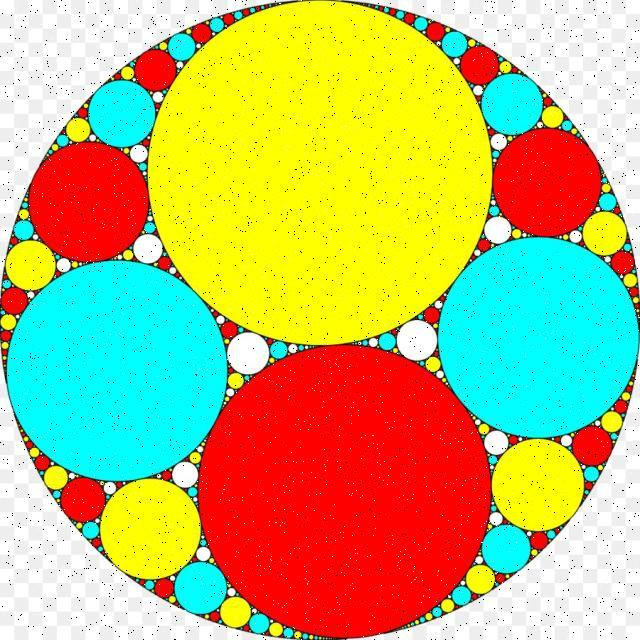Circle: (1, 0, 639, 640), (148, 2, 492, 346), (198, 343, 492, 638), (7, 260, 226, 480), (436, 237, 640, 438), (28, 140, 148, 262), (492, 128, 603, 235), (101, 478, 201, 580), (494, 438, 584, 532), (88, 80, 156, 147), (482, 67, 544, 138), (174, 560, 228, 616), (5, 238, 56, 291), (482, 528, 531, 573), (225, 332, 272, 376), (60, 478, 106, 522), (584, 210, 626, 257), (458, 42, 501, 87), (396, 318, 436, 365), (136, 45, 177, 90), (570, 425, 612, 465), (219, 594, 251, 630), (134, 234, 162, 266), (169, 34, 197, 64), (466, 564, 494, 594), (484, 218, 512, 244), (65, 115, 91, 143), (247, 610, 272, 638), (44, 466, 70, 492), (172, 462, 198, 488), (372, 331, 400, 354), (611, 250, 635, 274), (11, 220, 36, 242), (543, 105, 564, 131), (442, 34, 467, 54), (268, 339, 290, 361), (452, 584, 474, 606), (426, 20, 446, 44), (601, 411, 623, 432), (192, 22, 212, 45), (154, 578, 174, 598), (33, 452, 51, 474), (530, 530, 549, 550), (598, 193, 618, 212), (130, 144, 148, 164), (221, 320, 238, 340), (438, 597, 457, 614), (413, 15, 430, 34), (583, 465, 600, 483), (82, 522, 98, 541), (430, 604, 446, 622), (209, 17, 225, 34), (157, 253, 172, 270), (270, 620, 284, 638), (489, 511, 504, 526), (622, 274, 638, 288), (57, 133, 70, 149), (121, 66, 135, 80), (422, 610, 435, 624), (18, 208, 30, 221), (104, 482, 116, 495), (223, 12, 234, 26), (190, 452, 202, 464), (404, 12, 415, 25), (495, 573, 507, 584), (562, 120, 573, 132), (602, 182, 612, 194), (139, 159, 148, 172), (396, 8, 404, 22), (187, 487, 198, 497), (161, 470, 172, 480), (629, 286, 639, 296), (144, 580, 154, 590), (548, 529, 556, 540), (632, 296, 640, 304), (571, 127, 578, 136), (390, 7, 394, 18)
